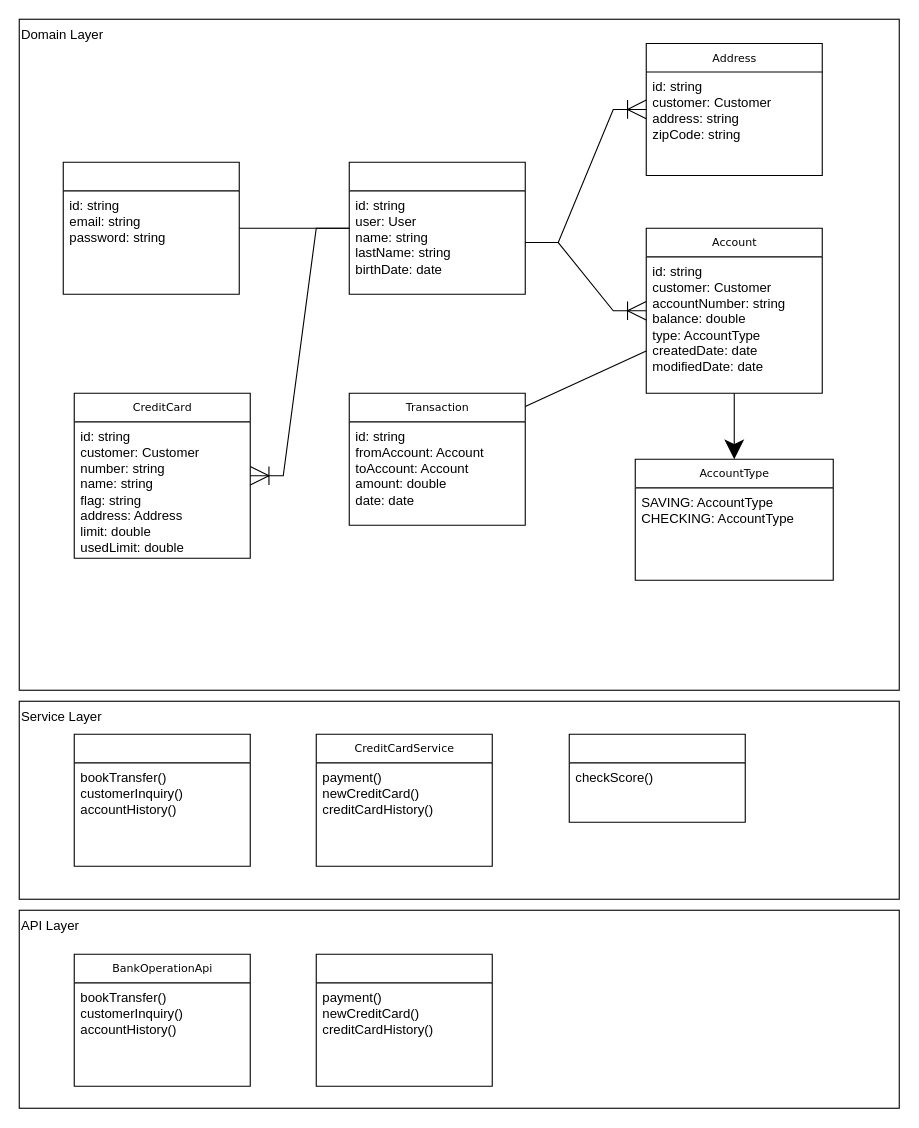
Some shapes in this 919 by 1128 pixel diagram are drawn without their labels. Each missing label, with the box of its shape:
BankService: (73, 733, 250, 866)
CreditCardApi: (315, 953, 492, 1086)
Customer: (348, 161, 525, 294)
ScoreService: (568, 733, 745, 822)
User: (62, 161, 239, 294)
